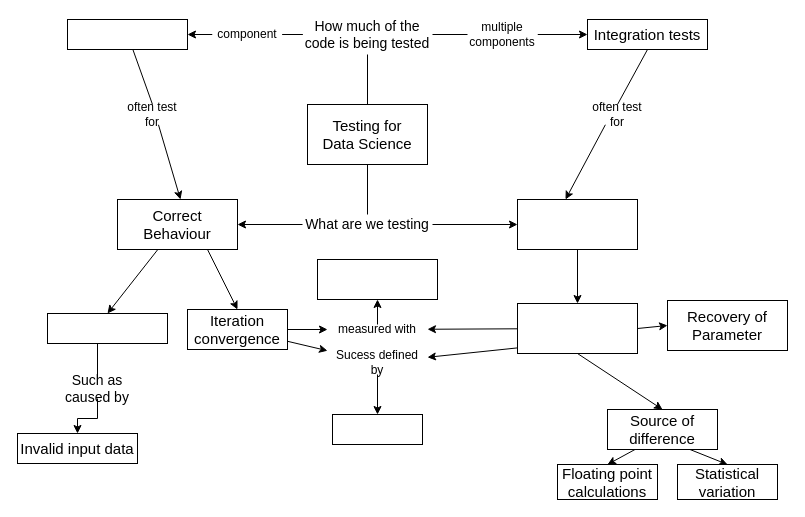
The diagram is 805 pixels wide and 517 high, and some of its shapes have lost their labels. Each missing label, with the centre of its shape:
Approximate correctness: the point at 577,328
Error handling: the point at 107,328
Known Solution: the point at 577,224
Relative vs Absolute Error: the point at 377,279
Thresholds: the point at 377,429
Unit tests: the point at 127,34
